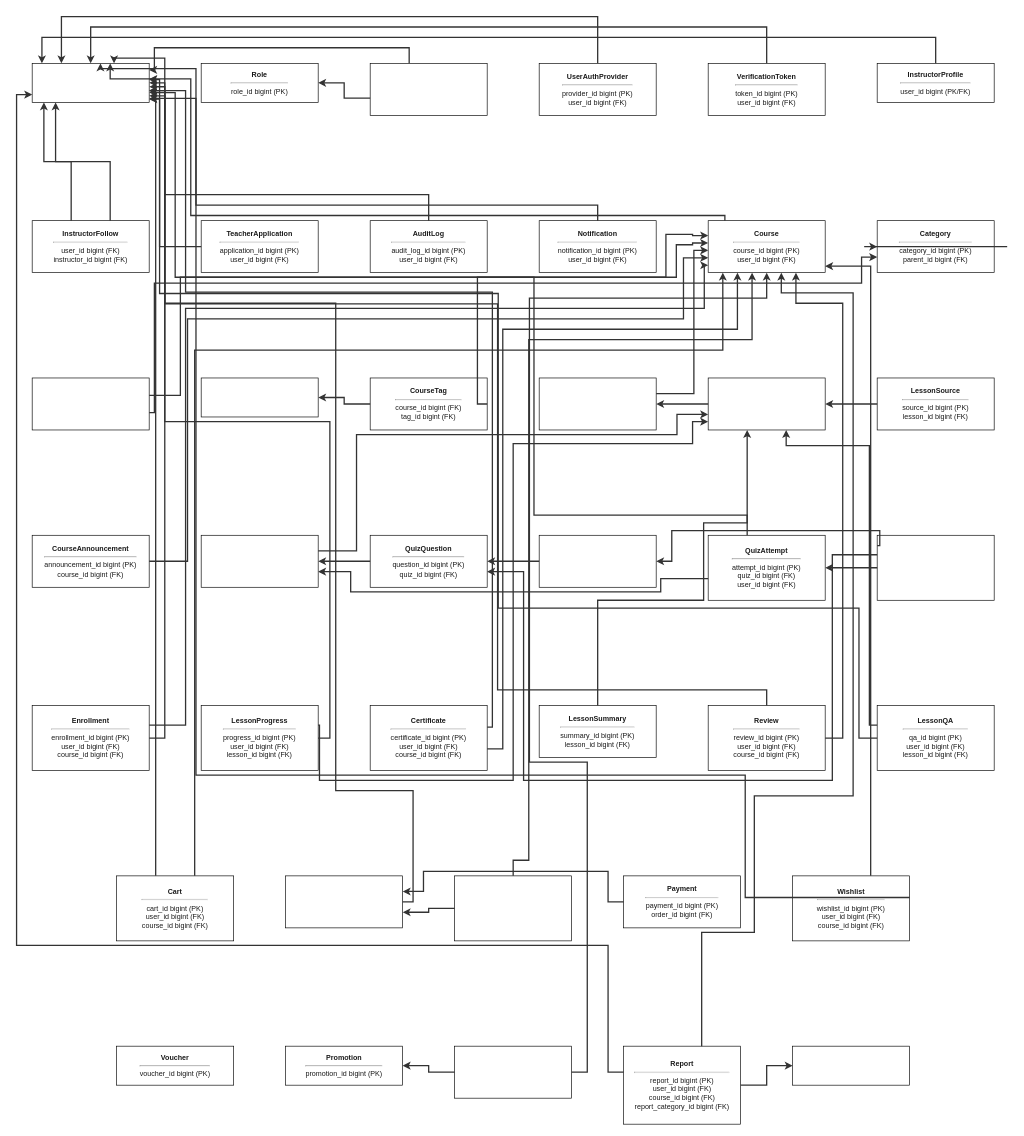
This 1024x1136 diagram has some shape labels left out. Here are the shapes that lost their labels. From the top down, the centre of each, then its label:
[90,82]: User user_id bigint (PK)
[428,89]: UserRole user_id bigint (FK) role_id bigint (FK)
[90,403]: CourseCategory course_id bigint (FK) category_id bigint (FK)
[259,397]: Tag tag_id bigint (PK)
[597,403]: Section section_id bigint (PK) course_id bigint (FK)
[766,403]: Lesson lesson_id bigint (PK) section_id bigint (FK)
[259,561]: Quiz quiz_id bigint (PK) lesson_id bigint (FK)
[597,561]: QuizOption option_id bigint (PK) question_id bigint (FK)
[935,567]: QuizAnswer answer_id bigint (PK) attempt_id bigint (FK) question_id bigint (FK)
[344,901]: Order order_id bigint (PK) user_id bigint (FK)
[513,908]: OrderItem order_item_id bigint (PK) order_id bigint (FK) course_id bigint (FK)
[513,1072]: PromotionCourse promotion_id bigint (FK) course_id bigint (FK)
[851,1065]: ReportCategory report_category_id bigint (PK)
